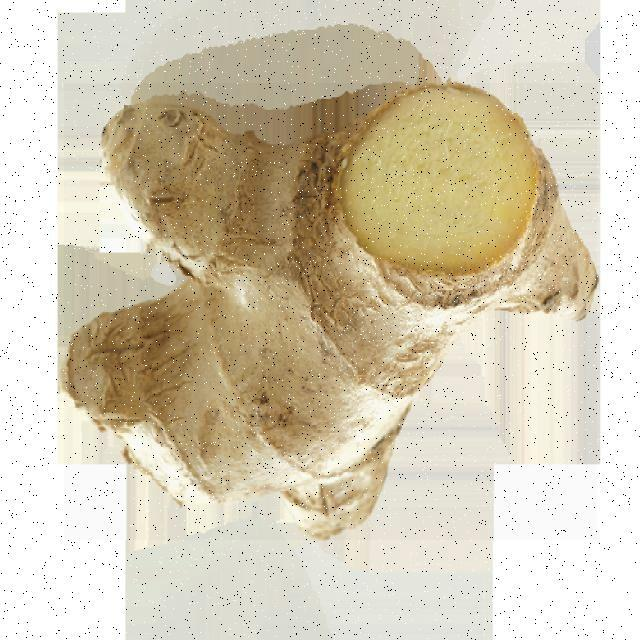ginger: (63, 82, 596, 538)
